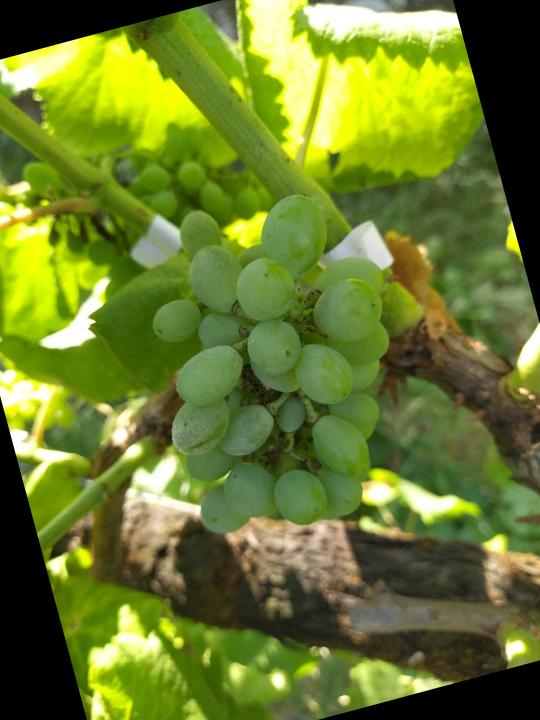grape: (113, 163, 449, 564)
